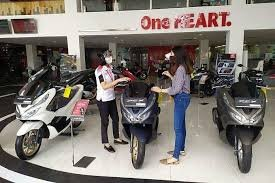motor: (10, 71, 85, 153), (212, 80, 270, 171), (114, 80, 161, 170)
